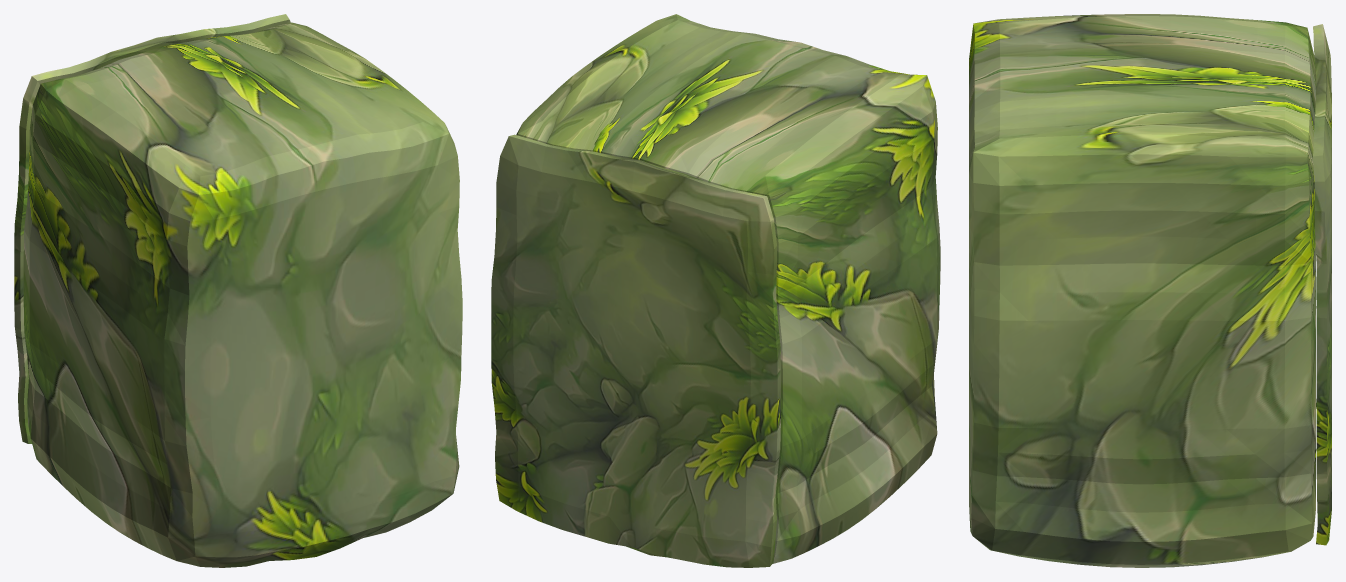
Rendered from Rock-2.obj.
3 views of the same model, side by side, from view 1: azimuth 30°, elevation 25°; view 2: azimuth 150°, elevation 25°; view 3: azimuth 270°, elevation 25° (orthographic). The views are drawn at different scales.
Visible parts, largest first — view 1: Group28113, Group28128; view 2: Group28128, Group28113; view 3: Group28113, Group28128.
Part boxes in pixels (box(x1,y1,x2,y2)): Group28113: box(23, 22, 462, 567); Group28128: box(14, 14, 290, 443); Group28128: box(491, 134, 780, 567); Group28113: box(516, 14, 940, 563); Group28113: box(969, 14, 1315, 567); Group28128: box(1313, 24, 1331, 545).
Size of the model in its own units: 0.4155 by 0.5868 by 0.4184.
